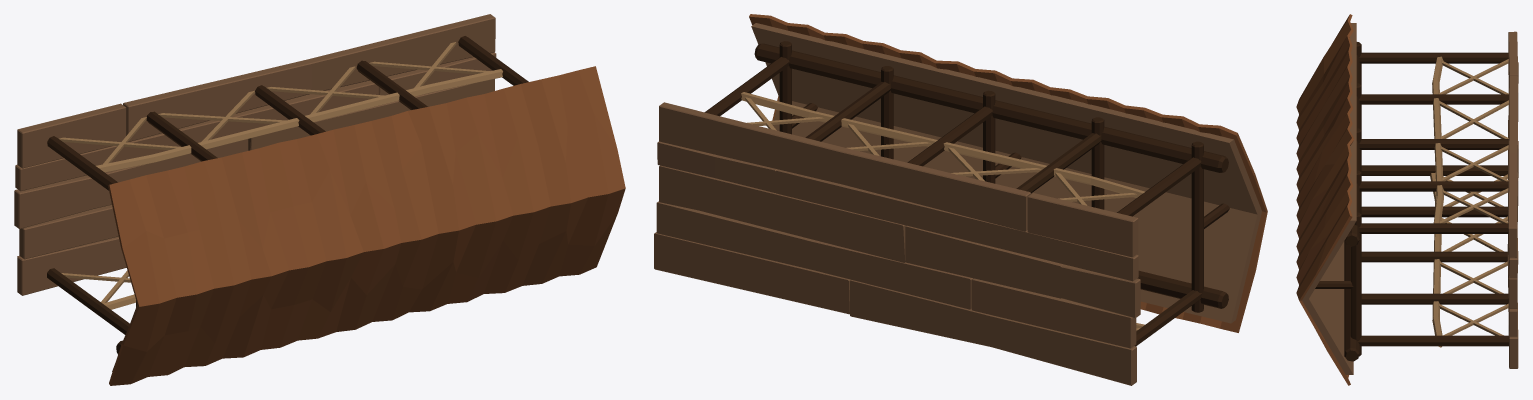
File: Bridge_01.fbx
The picture shows the model from 3 angles, left to right: view 1: azimuth 30°, elevation 25°; view 2: azimuth 150°, elevation 25°; view 3: azimuth 270°, elevation 25°; orthographic projection. The views are drawn at different scales.
Parts seen in each view (by area): view 1: Bridge_1.0_LOW.003; view 2: Bridge_1.0_LOW.003; view 3: Bridge_1.0_LOW.003.
Part boxes in pixels (bbox=[...]): Bridge_1.0_LOW.003: bbox=[14, 14, 625, 385]; Bridge_1.0_LOW.003: bbox=[654, 14, 1267, 385]; Bridge_1.0_LOW.003: bbox=[1296, 14, 1518, 385].
Size of the model in its own units: 875 by 348 by 405.
